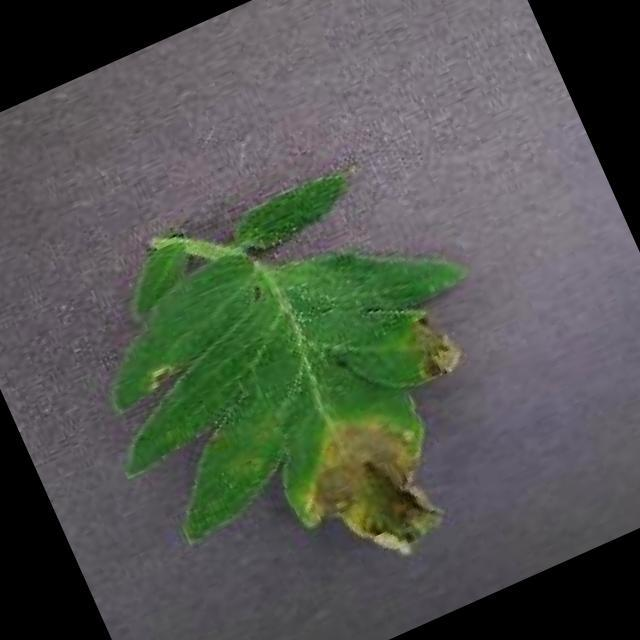Tomato late blight leaf: (54, 134, 564, 640)
